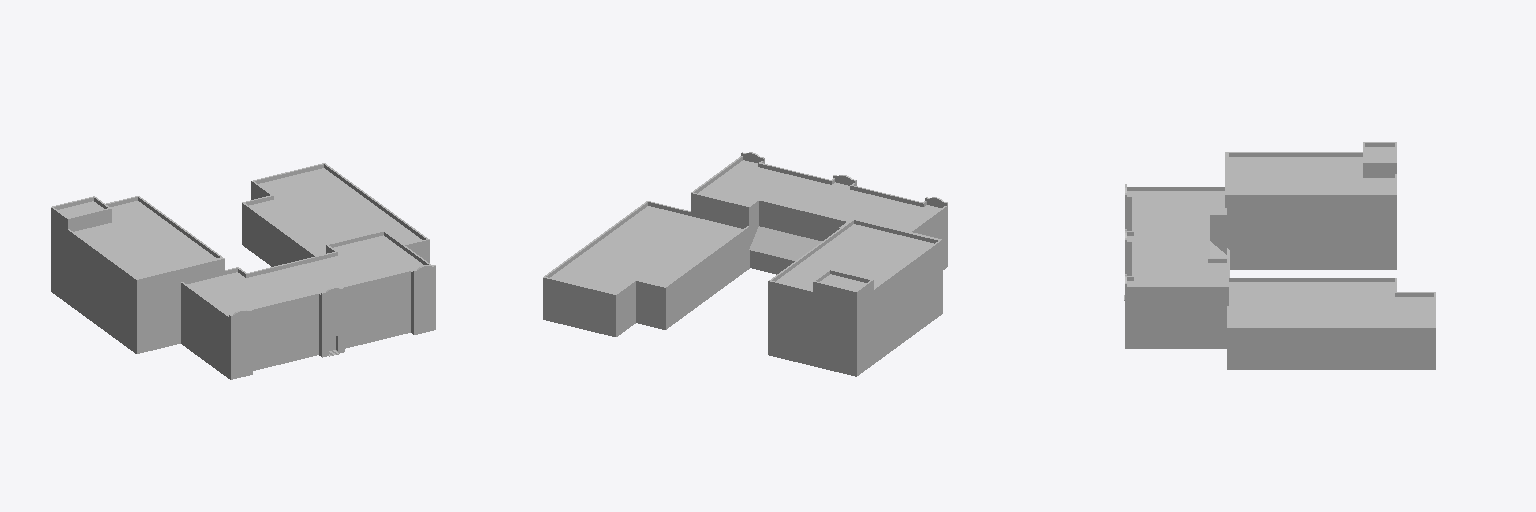
File: Muni_School_01.obj
3 views of the same model, side by side, from view 1: azimuth 30°, elevation 25°; view 2: azimuth 150°, elevation 25°; view 3: azimuth 270°, elevation 25° (orthographic).
Visible parts, largest first — view 1: Mesh400 Model; view 2: Mesh400 Model; view 3: Mesh400 Model.
Part boxes in pixels (bbox=[...]): Mesh400 Model: bbox=[51, 163, 435, 379]; Mesh400 Model: bbox=[543, 152, 947, 376]; Mesh400 Model: bbox=[1124, 142, 1435, 369].
Size of the model in its own units: 2880 by 792 by 2652.